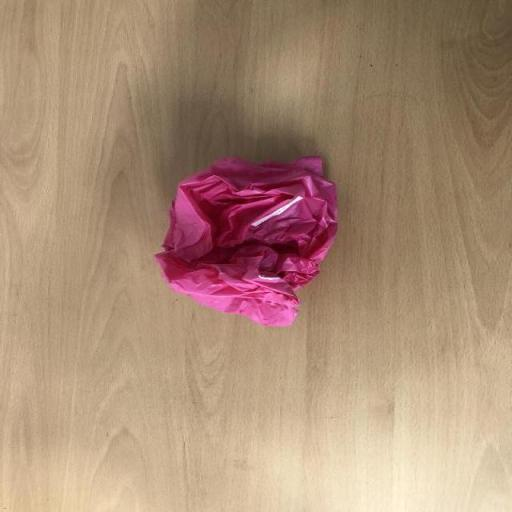plastic-bag: (146, 149, 348, 331)
